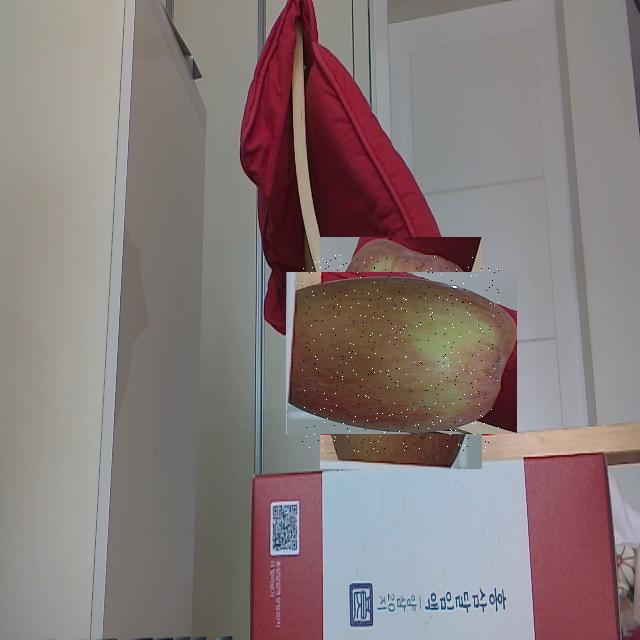apple: (302, 255, 500, 452)
